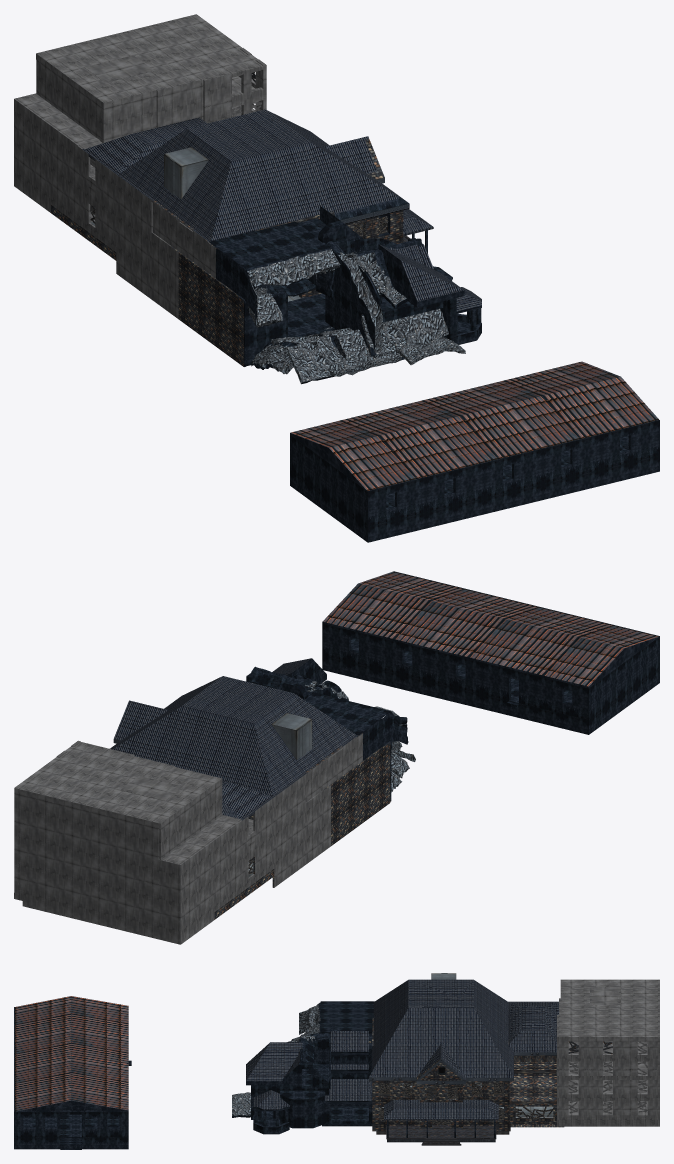
File: abandoned-hospital.glb
The picture shows the model from 3 angles, top to bottom: view 1: azimuth 30°, elevation 25°; view 2: azimuth 150°, elevation 25°; view 3: azimuth 270°, elevation 25°; orthographic projection. The views are drawn at different scales.
Visible parts, largest first — view 1: Object_16, Object_6, Object_29, Object_25, Object_26, Object_18, Object_21, Object_15, Object_30, Object_27, Object_19, Object_3; view 2: Object_16, Object_6, Object_29, Object_25, Object_18, Object_15, Object_26, Object_27, Object_19, Object_21; view 3: Object_16, Object_29, Object_6, Object_26, Object_30, Object_3, Object_25, Object_27, Object_13, Object_23, Object_21, Object_19 (+3 smaller).
Part boxes in pixels (box(x1,y1,x2,y2)): Object_16: box(14, 14, 266, 222); Object_6: box(290, 361, 658, 490); Object_29: box(82, 109, 395, 241); Object_25: box(290, 420, 659, 542); Object_26: box(216, 196, 481, 383); Object_18: box(23, 106, 215, 318); Object_21: box(247, 249, 465, 383); Object_15: box(51, 205, 403, 366); Object_30: box(317, 158, 481, 311); Object_27: box(209, 230, 628, 507); Object_19: box(90, 147, 301, 301); Object_3: box(90, 139, 388, 298); Object_16: box(14, 740, 241, 944); Object_6: box(323, 571, 658, 686); Object_29: box(110, 676, 357, 820); Object_25: box(322, 571, 659, 734); Object_18: box(189, 733, 362, 930); Object_15: box(214, 742, 390, 919); Object_26: box(246, 658, 413, 801); Object_27: box(329, 637, 572, 735); Object_19: box(248, 713, 312, 876); Object_21: box(302, 676, 415, 792); Object_16: box(556, 979, 659, 1126); Object_29: box(373, 979, 558, 1080); Object_6: box(15, 996, 128, 1111); Object_26: box(232, 1002, 372, 1134); Object_30: box(246, 1020, 498, 1120); Object_3: box(368, 1018, 563, 1134); Object_25: box(14, 1007, 131, 1149); Object_27: box(23, 1001, 495, 1137); Object_13: box(386, 1125, 496, 1139); Object_23: box(368, 1052, 556, 1142); Object_21: box(232, 1004, 320, 1115); Object_19: box(379, 973, 556, 1117).
Bounding box in the file's own units: 14.1 × 6.41 × 33.38.
14 materials, 14 textured.
